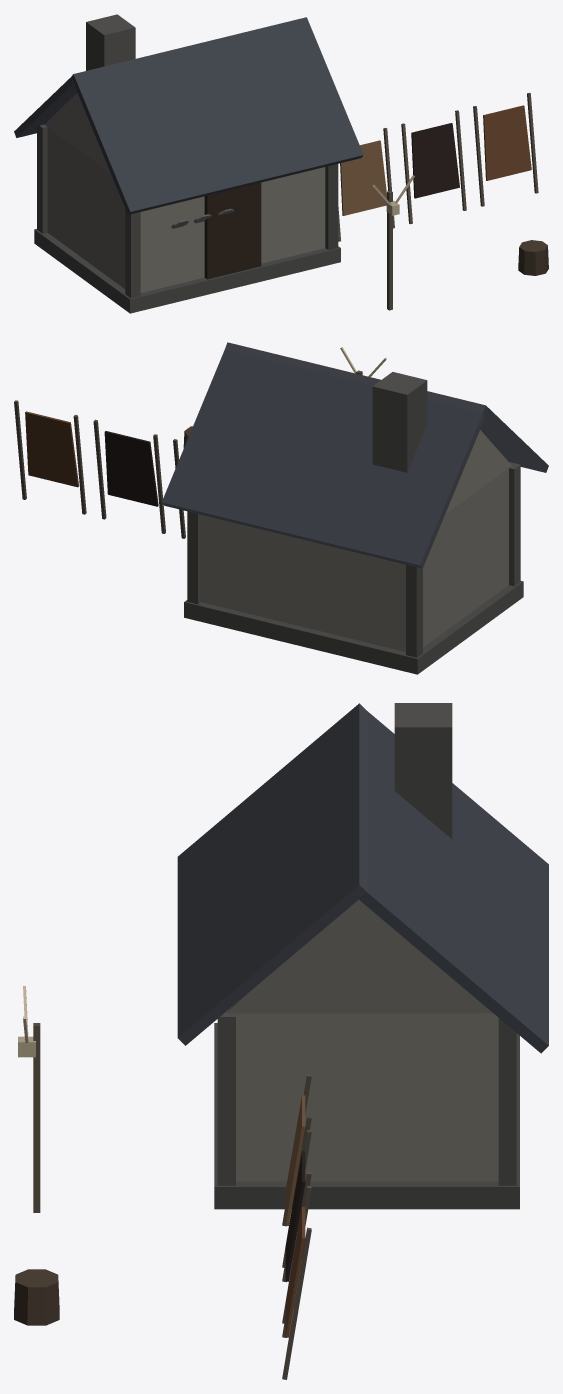
The model's file is walk_freehold_trapper.glb.
3 renders of one model, top to bottom at view 1: azimuth 30°, elevation 25°; view 2: azimuth 150°, elevation 25°; view 3: azimuth 270°, elevation 25°, orthographic. The views are drawn at different scales.
Parts seen in each view (by area): view 1: walk_freehold_trapper, walk_freehold_trapper_roof; view 2: walk_freehold_trapper, walk_freehold_trapper_roof; view 3: walk_freehold_trapper, walk_freehold_trapper_roof.
Part boxes in pixels (x1=…): walk_freehold_trapper: x1=34, y1=92, x2=548, y2=313; walk_freehold_trapper_roof: x1=14, y1=14, x2=363, y2=214; walk_freehold_trapper: x1=14, y1=347, x2=523, y2=674; walk_freehold_trapper_roof: x1=161, y1=342, x2=548, y2=568; walk_freehold_trapper: x1=14, y1=899, x2=519, y2=1379; walk_freehold_trapper_roof: x1=177, y1=703, x2=548, y2=1053.
Size of what is drawn, in the model's own units: 9.83 by 4.99 by 6.48.
Materials: 2 (2 with a texture image).
